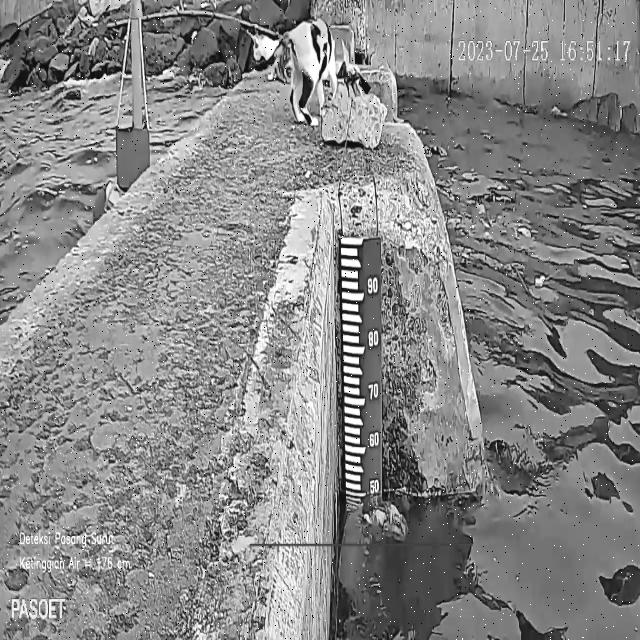50: (369, 478, 379, 494)
60: (369, 432, 380, 448)
70: (369, 382, 379, 401)
80: (368, 330, 380, 349)
90: (367, 278, 378, 294)
staff: (340, 236, 382, 497)
